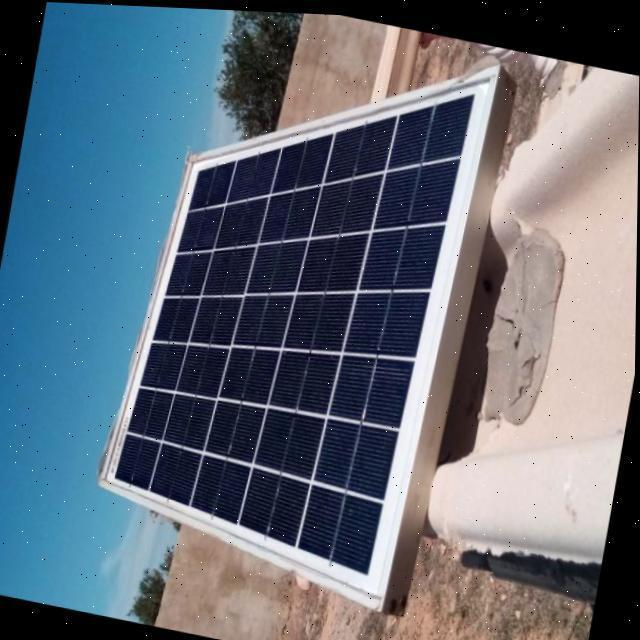Normal Solar Panel: (90, 4, 497, 608)
